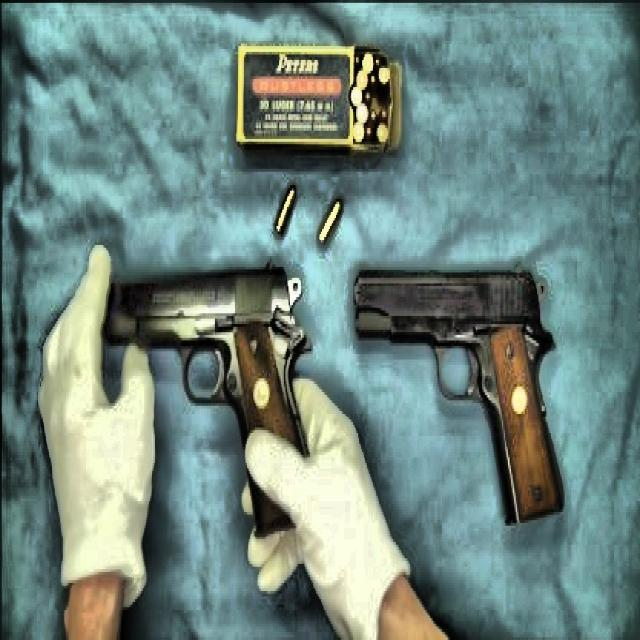Colt m1911: (345, 246, 599, 537), (109, 273, 308, 532)
